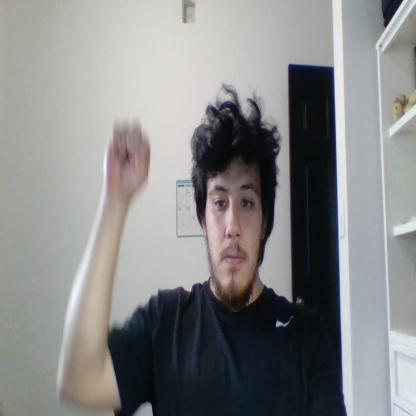S: (104, 118, 150, 196)
